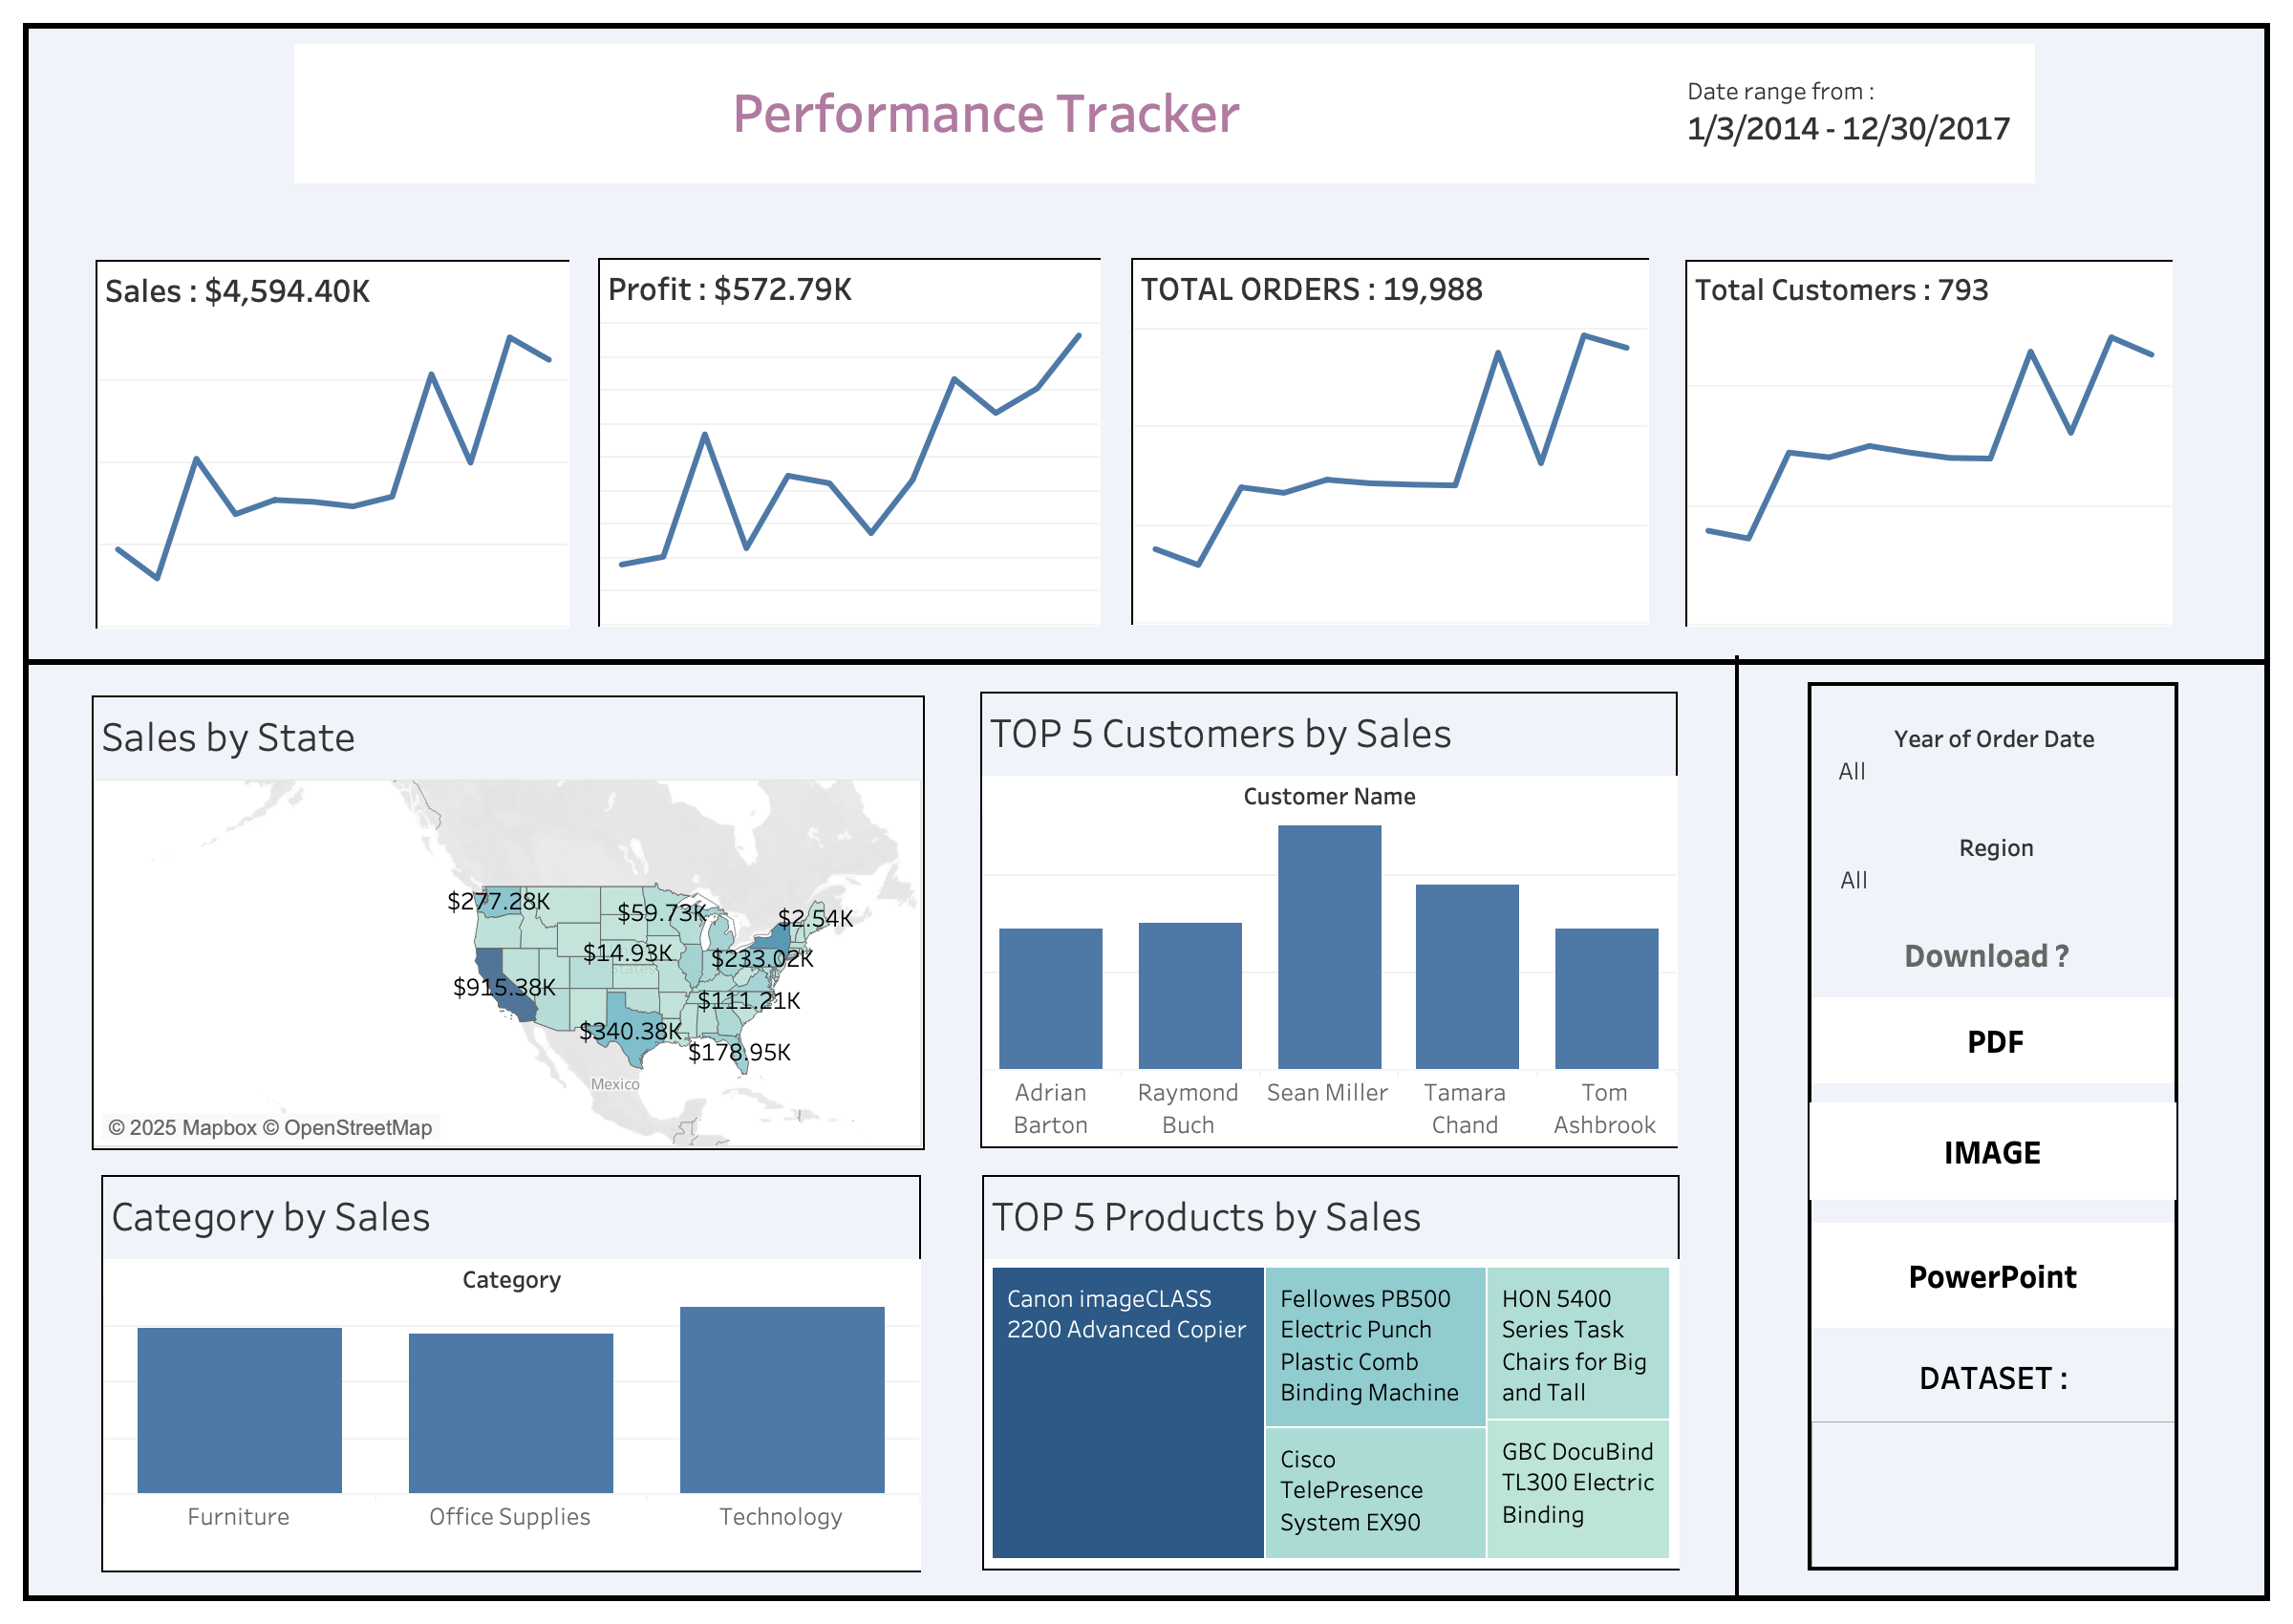

This screenshot's page, from the dashboard's own definition file:
{"tool":"tableau","page":{"name":"Dashboard 1","canvas":[1200,850],"ordinal":0},"visuals":[{"type":"worksheet","title":"title","mark":"Automatic","box":[154,23,725,72]},{"type":"worksheet","title":"time period","mark":"Automatic","box":[879,23,185,72]},{"type":"worksheet","title":"profit kpi","mark":"Automatic","box":[314,136,261,30]},{"type":"worksheet","title":"orders","mark":"Automatic","box":[593,136,269,30]},{"type":"worksheet","title":"sales kpi","mark":"Automatic","box":[51,137,246,30]},{"type":"worksheet","title":"customers","mark":"Automatic","box":[883,137,253,30]},{"type":"worksheet","title":"profits trend over time kpi","mark":"Automatic","rows":["Profit"],"cols":["Order Date"],"box":[314,166,261,161]},{"type":"worksheet","title":"ORDERS KPI","mark":"Automatic","rows":["Order ID"],"cols":["Order Date"],"box":[593,166,269,160]},{"type":"worksheet","title":"sales trend over time kpi","mark":"Automatic","rows":["Sales"],"cols":["Order Date"],"box":[51,167,246,161]},{"type":"worksheet","title":"customeres kpi","mark":"Automatic","rows":["Customer Name"],"cols":["Order Date"],"box":[883,167,253,160]},{"type":"worksheet","title":"top 5 customers with sales","mark":"Automatic","rows":["Sales"],"cols":["Customer Name"],"box":[509,358,373,247]},{"type":"worksheet","title":"Map with sales","mark":"Multipolygon","box":[48,364,436,238]},{"type":"filter","title":"Map with sales","param":"[federated.199kr1i13rwpqz1ggd3h717rnsyb].[yr:Order Date:ok]","box":[960,377,168,45]},{"type":"filter","title":"Map with sales","param":"[federated.199kr1i13rwpqz1ggd3h717rnsyb].[none:Region:nk]","box":[961,434,168,38]},{"type":"text","box":[994,485,100,30]},{"type":"dashboard-object","box":[948,522,193,45]},{"type":"dashboard-object","box":[947,577,192,51]},{"type":"worksheet","title":"category with sales","mark":"Automatic","rows":["Sales"],"cols":["Category"],"box":[49,611,437,216]},{"type":"worksheet","title":"top 5 products with sales","mark":"Automatic","box":[514,615,365,207]},{"type":"dashboard-object","box":[947,640,192,55]},{"type":"text","box":[948,705,191,32]},{"type":"web page","param":"https://www.kaggle.com/datasets/vivek468/superstore-dataset-final/data","box":[948,742,191,78]}]}

Visuals, with their boxes in screenshot pixels (x1, y1, x2, y2), scaled from the page's 1200x850 canvas onto the 2293x1624 screenshot:
"title" worksheet: (294,44,1680,182)
"time period" worksheet: (1680,44,2033,182)
"profit kpi" worksheet: (600,260,1099,317)
"orders" worksheet: (1133,260,1647,317)
"sales kpi" worksheet: (97,262,568,319)
"customers" worksheet: (1687,262,2171,319)
"profits trend over time kpi" worksheet: (600,317,1099,625)
"ORDERS KPI" worksheet: (1133,317,1647,623)
"sales trend over time kpi" worksheet: (97,319,568,627)
"customeres kpi" worksheet: (1687,319,2171,625)
"top 5 customers with sales" worksheet: (973,684,1685,1156)
"Map with sales" worksheet (Multipolygon marks): (92,695,925,1150)
"Map with sales" filter: (1834,720,2155,806)
"Map with sales" filter: (1836,829,2157,902)
text: (1899,927,2090,984)
dashboard-object: (1811,997,2180,1083)
dashboard-object: (1810,1102,2176,1200)
"category with sales" worksheet: (94,1167,929,1580)
"top 5 products with sales" worksheet: (982,1175,1680,1571)
dashboard-object: (1810,1223,2176,1328)
text: (1811,1347,2176,1408)
web page: (1811,1418,2176,1567)
